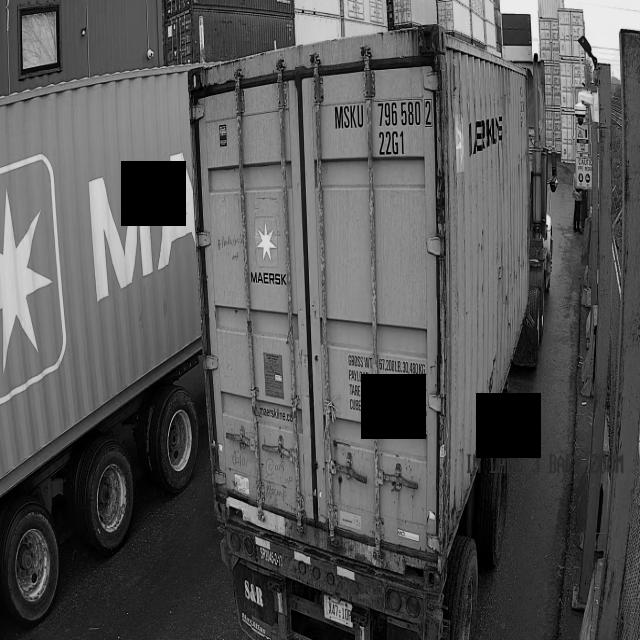container_company_logo: (251, 216, 286, 285)
container_number: (325, 87, 458, 166)
driver: (569, 167, 581, 241)
license_plate: (324, 595, 352, 627)
other_container_info: (346, 344, 431, 426)
truck_with_container: (189, 25, 557, 640), (0, 67, 201, 626)
